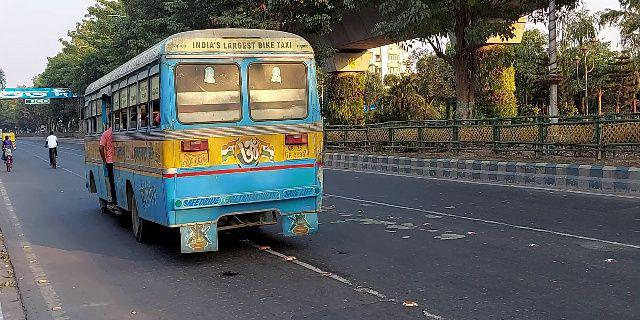Bus: (79, 25, 323, 257)
Cycle: (42, 127, 63, 173), (1, 129, 22, 171)
